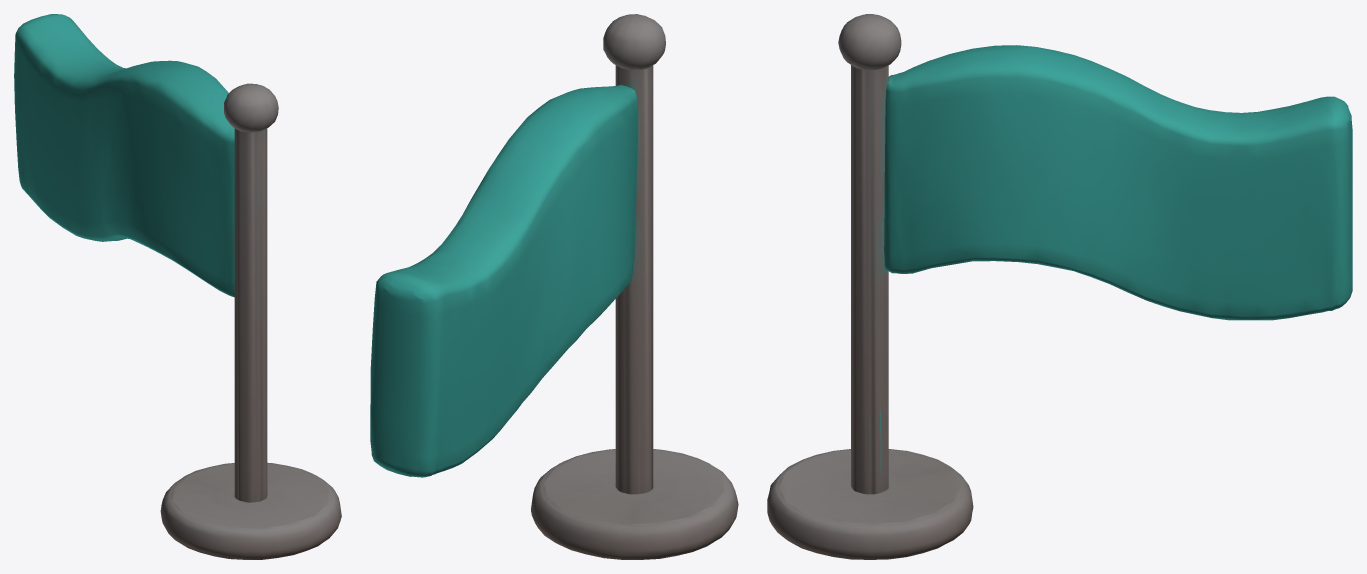
Rendered from icon-flag.glb.
3 renders of one model, left to right at view 1: azimuth 30°, elevation 25°; view 2: azimuth 150°, elevation 25°; view 3: azimuth 270°, elevation 25°, orthographic. The views are drawn at different scales.
Parts seen in each view (by area): view 1: tripo_node_kodyurd-model-41____________________; view 2: tripo_node_kodyurd-model-41____________________; view 3: tripo_node_kodyurd-model-41____________________.
Boxes of the visible parts, left/top/right/bottom form: tripo_node_kodyurd-model-41____________________: left=14, top=14, right=341, bottom=559; tripo_node_kodyurd-model-41____________________: left=370, top=14, right=738, bottom=559; tripo_node_kodyurd-model-41____________________: left=767, top=14, right=1352, bottom=559.
Size of the model in its own units: 0.3535 by 0.9434 by 0.998.
Materials: 1 (1 with a texture image).
